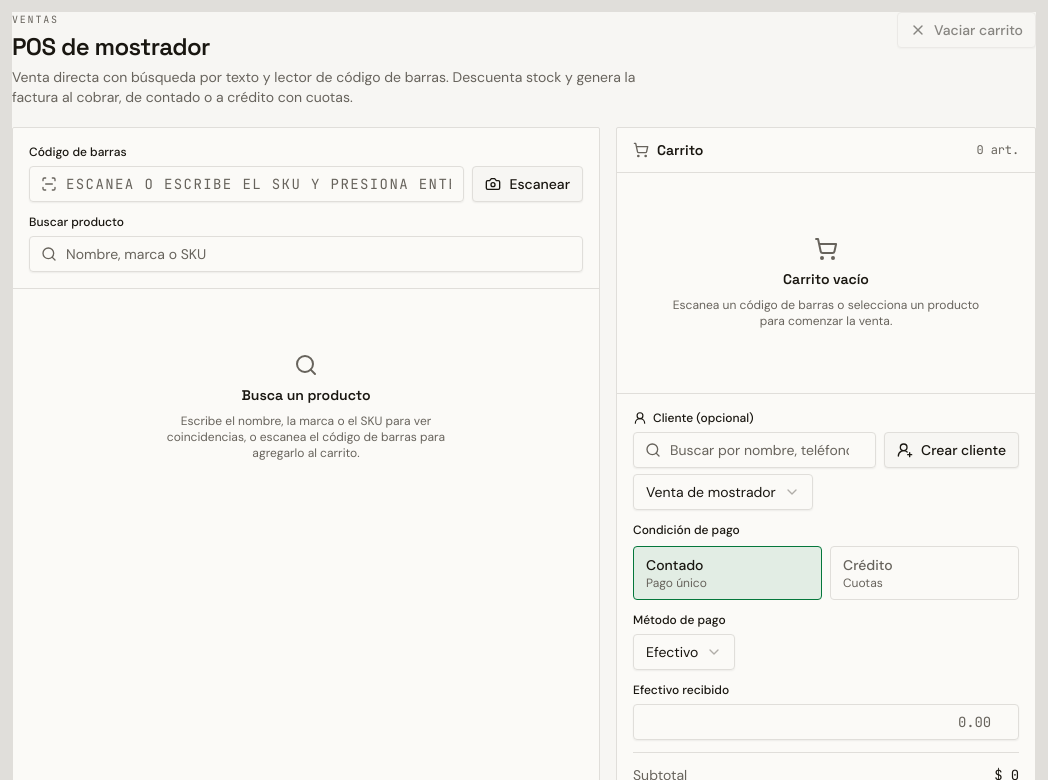
PosPage cart editing (characterization) › increases the line quantity and recomputes the taxed total
This screenshot has width=1048, height=780.
Type "balata" into the field with test id "pos.search_input" at (306, 254), box [29, 236, 583, 272]
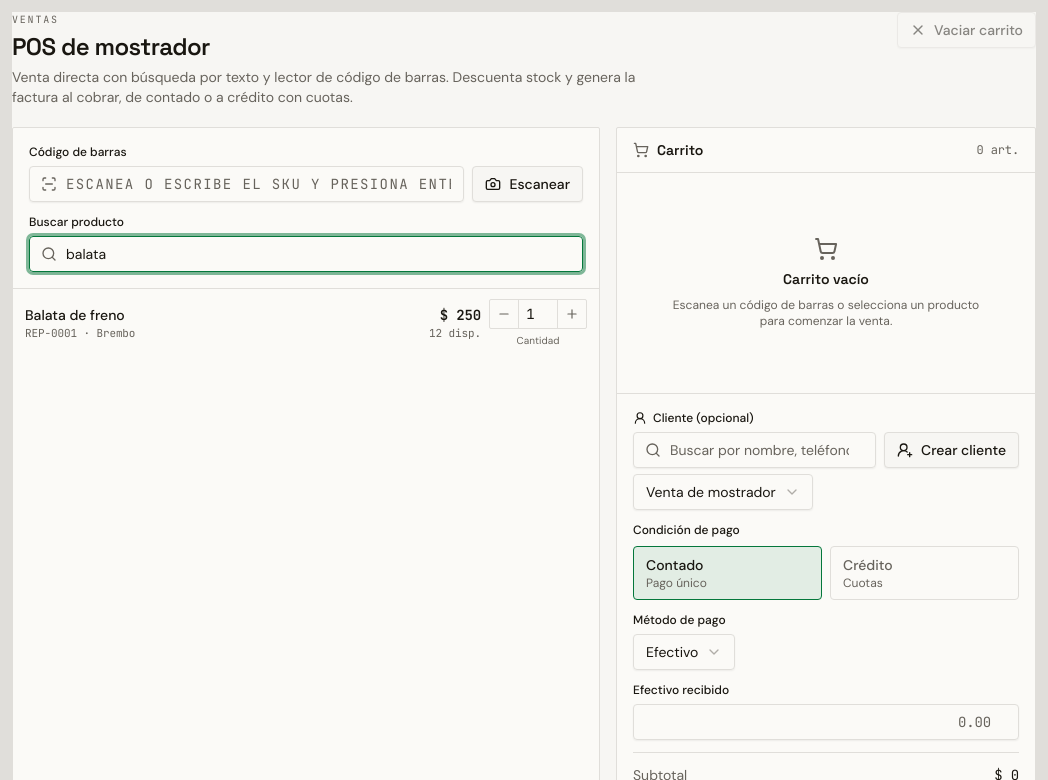
Now the button with test id "pos.product_item.1" is shown
Click the button with test id "pos.product_item.1" at (75, 315), box [25, 299, 481, 348]
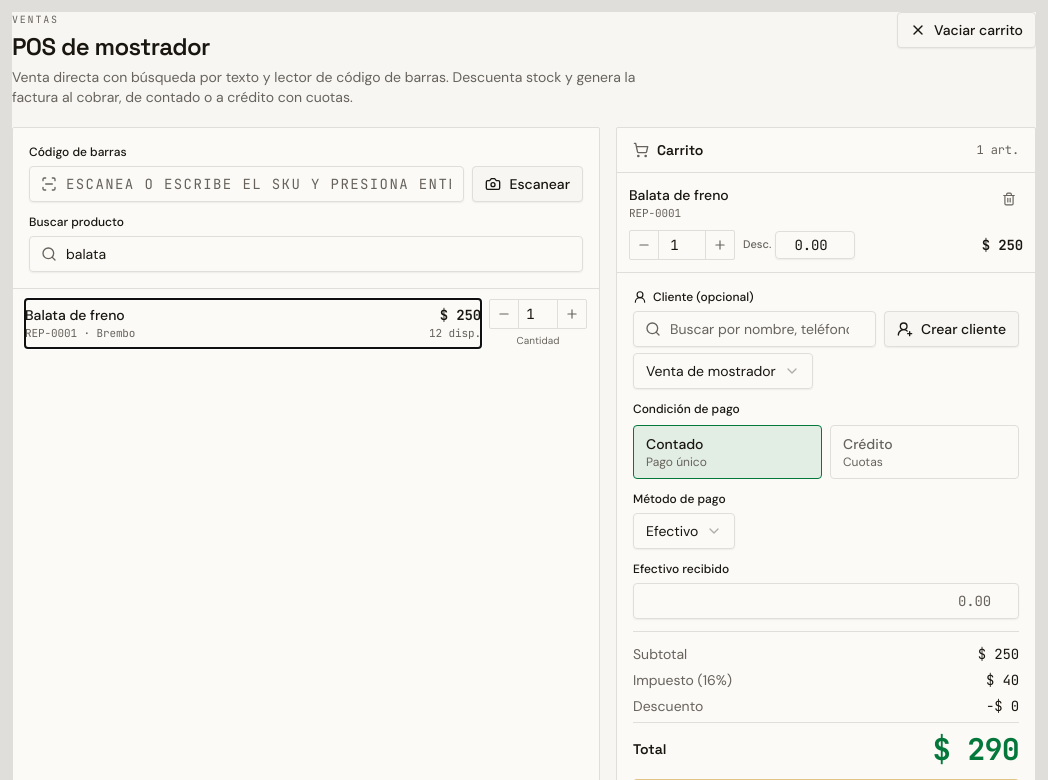
Now the text with test id "pos.total_value" shows "290", box [933, 728, 1019, 768]
Click the button with test id "pos.quantity_increase.1" at (720, 244), box [706, 230, 734, 258]
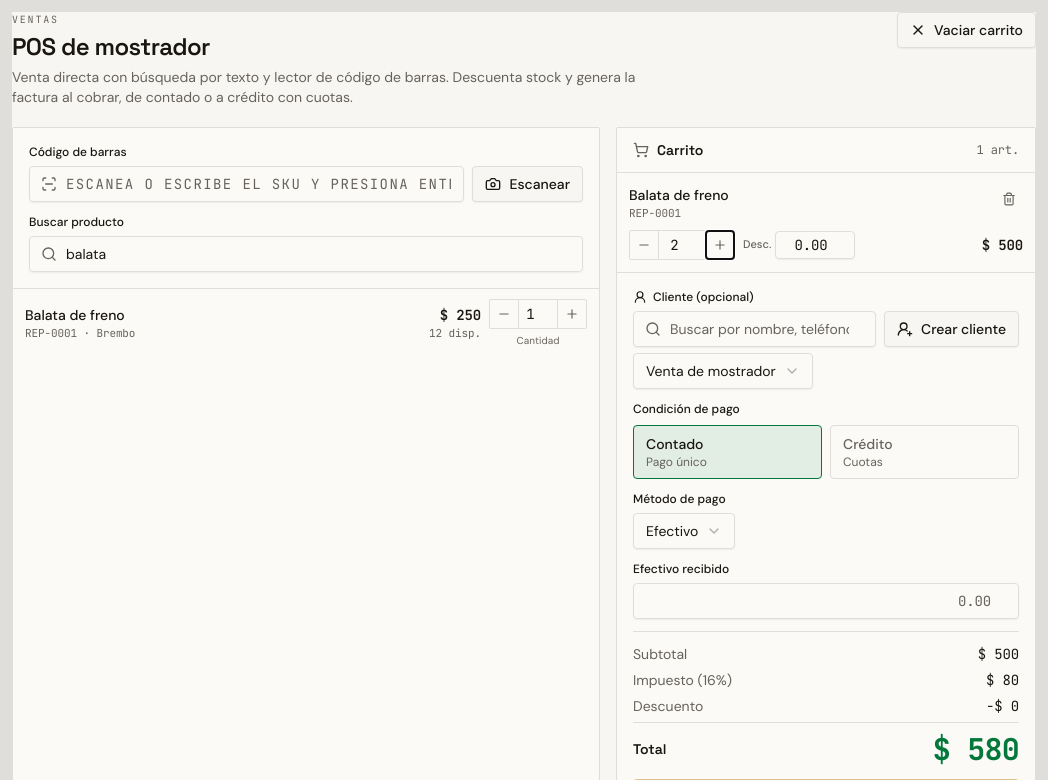
Now the number field with test id "pos.quantity_input.1" holds "2", box [658, 230, 706, 258]
Now the text with test id "pos.total_value" shows "580", box [933, 728, 1019, 768]
